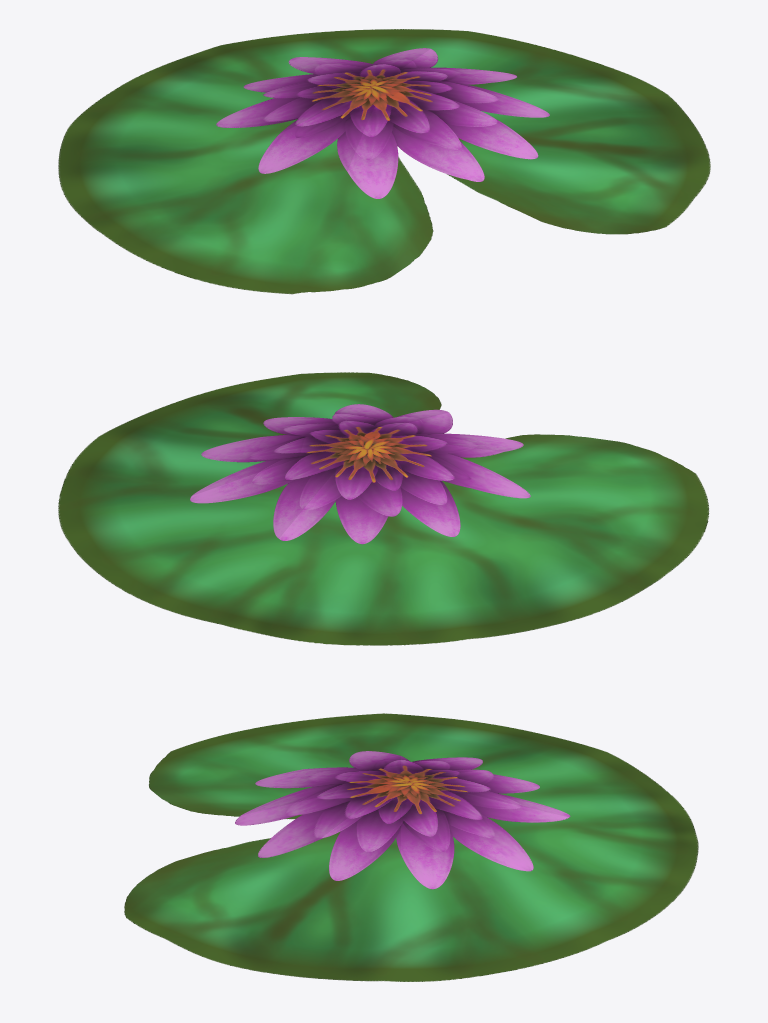
The model's file is Lekno.fbx.
3 views of the same model, one above another, from view 1: azimuth 30°, elevation 25°; view 2: azimuth 150°, elevation 25°; view 3: azimuth 270°, elevation 25° (orthographic). The views are drawn at different scales.
Visible parts, largest first — view 1: Cylinder.002, Cylinder.001; view 2: Cylinder.002, Cylinder.001; view 3: Cylinder.002, Cylinder.001.
Boxes of the visible parts, x1,y1,x2,y2 form: Cylinder.002: (58,29,710,294); Cylinder.001: (216,48,549,198); Cylinder.002: (58,372,709,645); Cylinder.001: (190,404,530,544); Cylinder.002: (124,713,698,981); Cylinder.001: (235,751,570,889).
Bounding box in the file's own units: 3159 × 332 × 3159.
2 materials, 2 textured.
